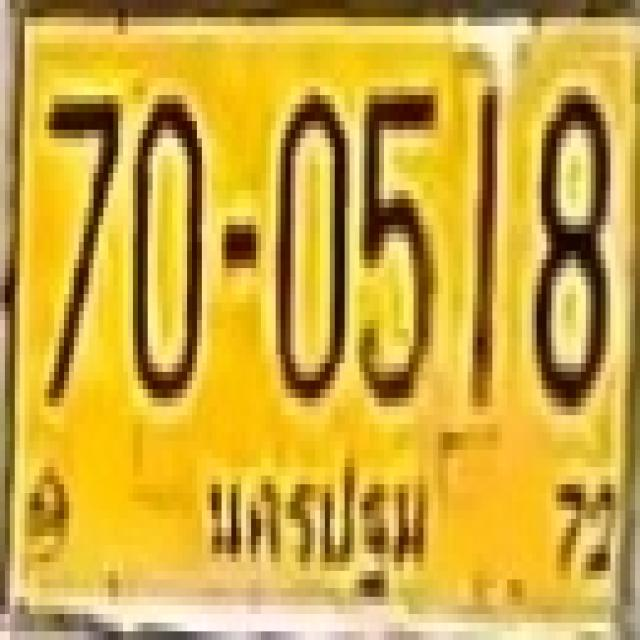0: (270, 86, 344, 398), (128, 86, 202, 398)
1: (468, 82, 497, 402)
5: (354, 78, 434, 398)
7: (44, 86, 118, 398)
8: (526, 78, 606, 398)
NPT: (191, 438, 437, 610)
